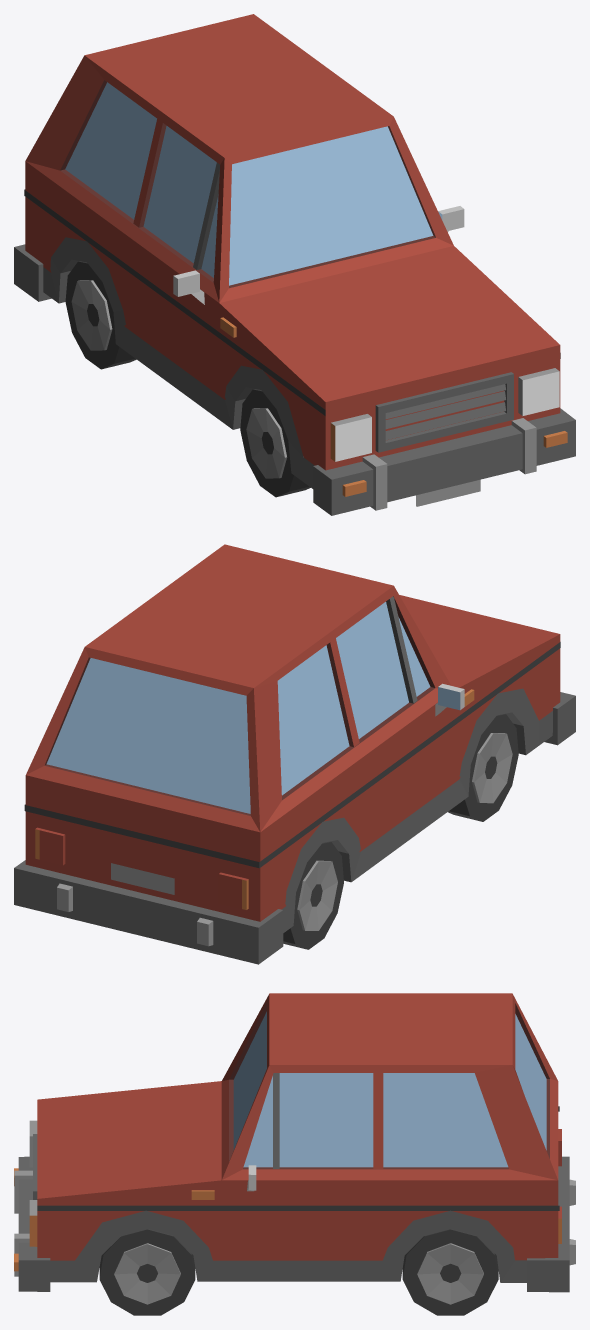
The model's file is transport_old_004.fbx.
The picture shows the model from 3 angles, top to bottom: view 1: azimuth 30°, elevation 25°; view 2: azimuth 150°, elevation 25°; view 3: azimuth 270°, elevation 25°; orthographic projection. The views are drawn at different scales.
Parts seen in each view (by area): view 1: transport_old_004; view 2: transport_old_004; view 3: transport_old_004.
Boxes of the visible parts, x1,y1,x2,y2 form: transport_old_004: [14, 14, 575, 515]; transport_old_004: [14, 544, 575, 964]; transport_old_004: [14, 993, 575, 1315].
Bounding box in the file's own units: 148 × 136 × 289.
